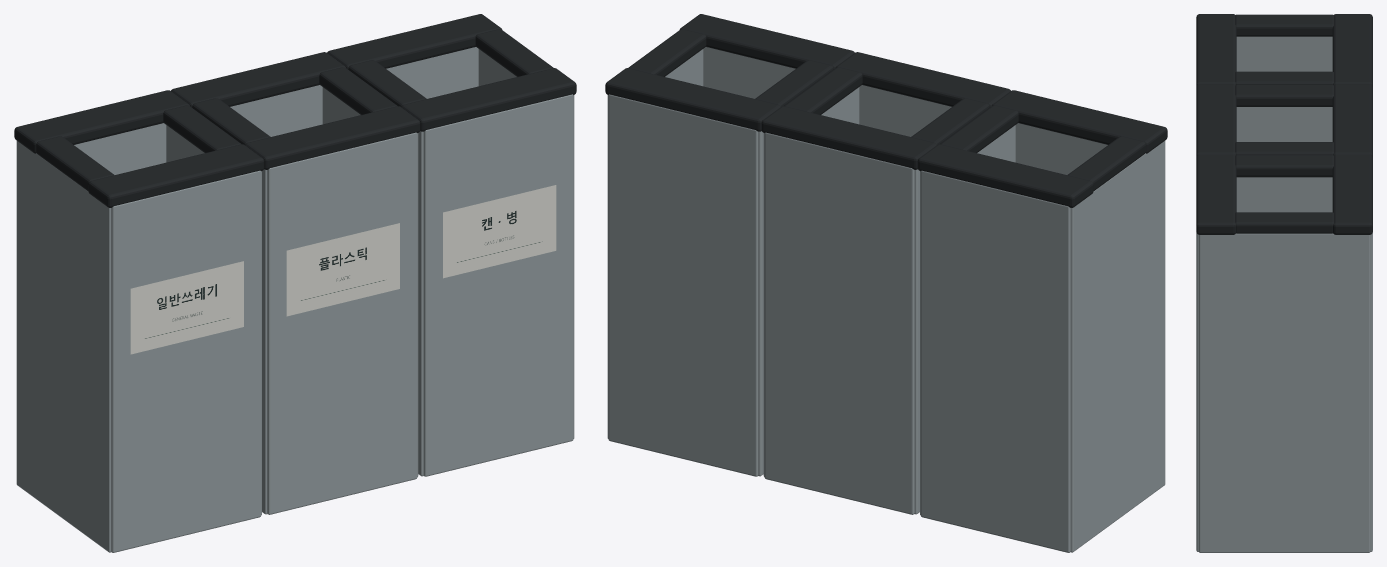
The model's file is Three_Stream_Recycling_Bins.fbx.
3 views of the same model, side by side, from view 1: azimuth 30°, elevation 25°; view 2: azimuth 150°, elevation 25°; view 3: azimuth 270°, elevation 25° (orthographic). The views are drawn at different scales.
Parts seen in each view (by area): view 1: Three_Stream_Recycling_Bins; view 2: Three_Stream_Recycling_Bins; view 3: Three_Stream_Recycling_Bins.
Boxes of the visible parts, x1=… form: Three_Stream_Recycling_Bins: x1=14, y1=14, x2=576, y2=552; Three_Stream_Recycling_Bins: x1=605, y1=14, x2=1167, y2=552; Three_Stream_Recycling_Bins: x1=1196, y1=14, x2=1372, y2=552.
Size of the model in its own units: 0.931 by 0.6795 by 0.3295.
7 materials, 3 textured.
